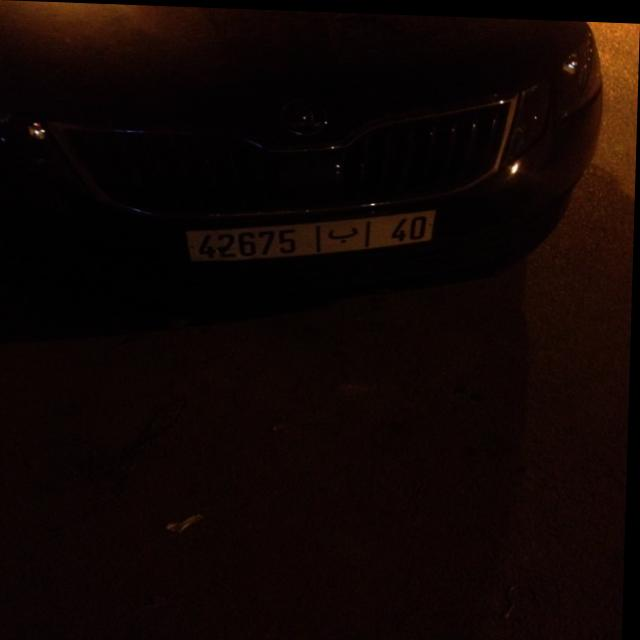License-Plate: (188, 207, 437, 260)
